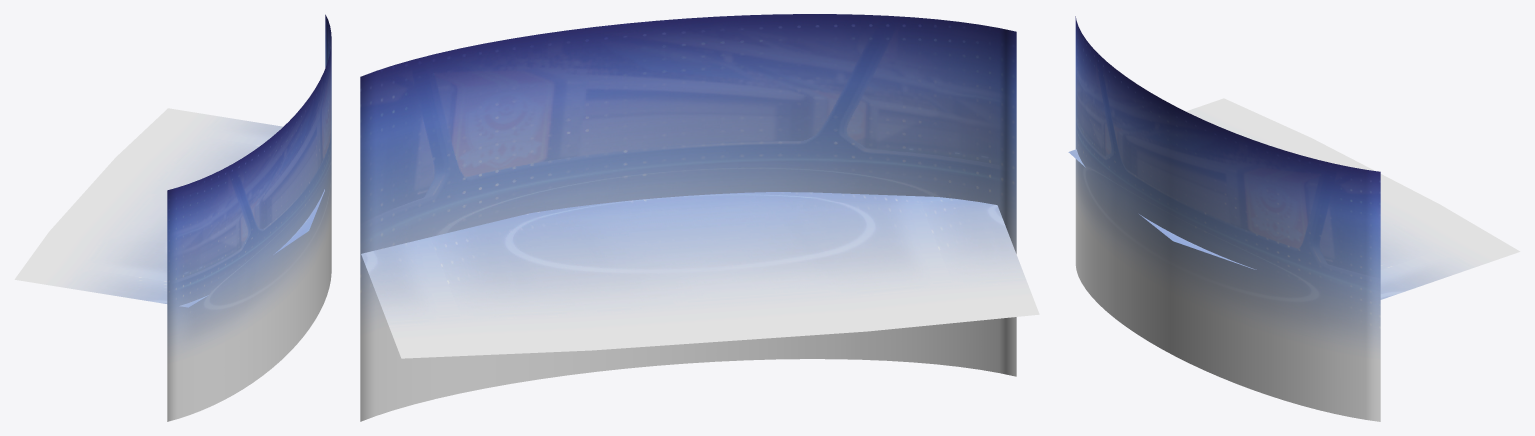
Rendered from pref_env_BanPickPageTopPerform_lv3.fbx.
3 renders of one model, left to right at view 1: azimuth 30°, elevation 25°; view 2: azimuth 150°, elevation 25°; view 3: azimuth 270°, elevation 25°, orthographic. The views are drawn at different scales.
Visible parts, largest first — view 1: sm_lobby_BanPickPage_background01_lv3, sm_lobby_BanPickPage_background02_lv3(Clone); view 2: sm_lobby_BanPickPage_background01_lv3, sm_lobby_BanPickPage_background02_lv3(Clone); view 3: sm_lobby_BanPickPage_background01_lv3, sm_lobby_BanPickPage_background02_lv3(Clone).
Part boxes in pixels (x1,y1,x2,y2): sm_lobby_BanPickPage_background01_lv3: (167, 14, 331, 421); sm_lobby_BanPickPage_background02_lv3(Clone): (14, 108, 324, 307); sm_lobby_BanPickPage_background01_lv3: (360, 14, 1016, 421); sm_lobby_BanPickPage_background02_lv3(Clone): (361, 192, 1039, 358); sm_lobby_BanPickPage_background01_lv3: (1075, 16, 1380, 421); sm_lobby_BanPickPage_background02_lv3(Clone): (1068, 98, 1520, 299).
Bounding box in the file's own units: 34.74 × 20.04 × 32.85.
